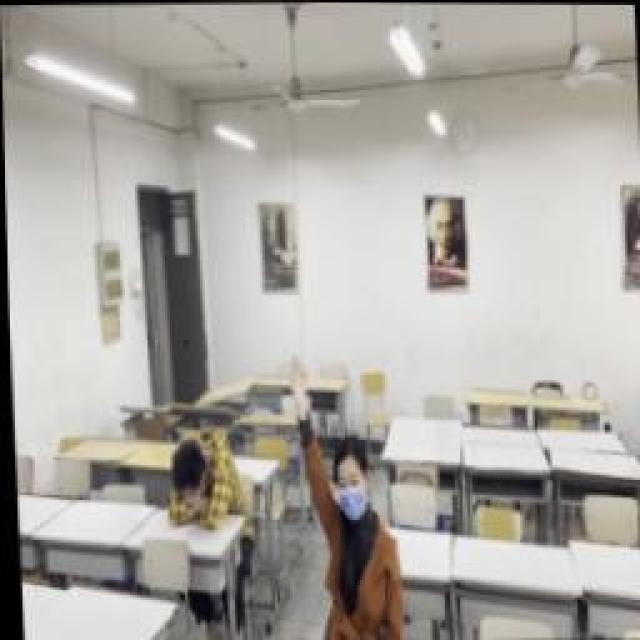sleep: (160, 422, 242, 532)
study: (288, 350, 398, 640)
